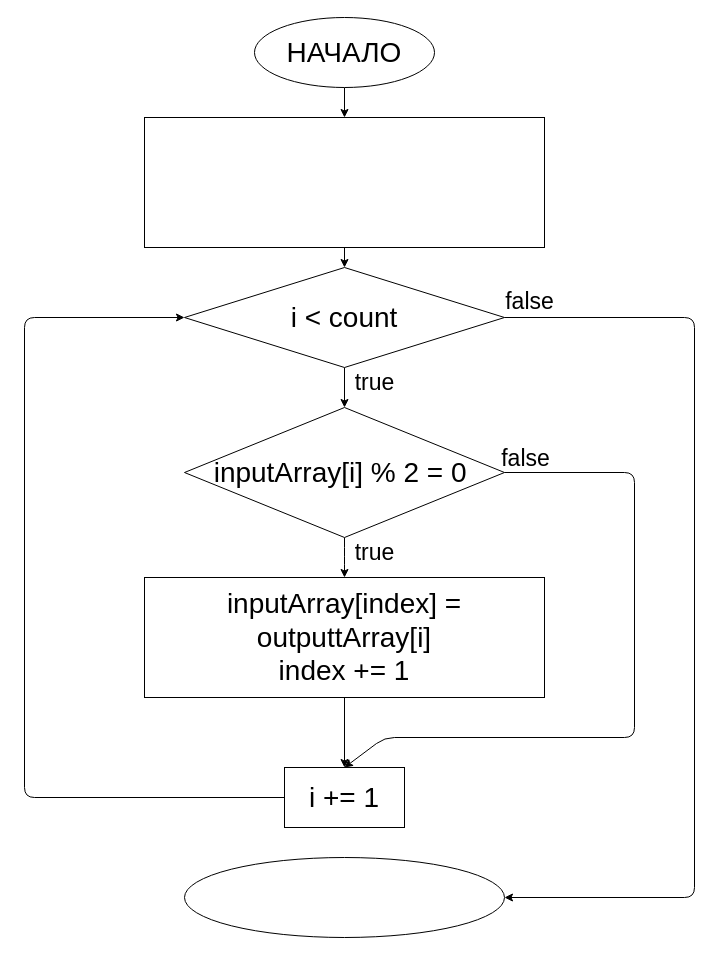
Some shapes in this 720 by 955 pixel diagram are drawn without their labels. Here are the shapes that lost their labels. From the top down, the box of each, then its label:
(144, 116, 544, 248): count inputArray [Integer, count] outputArray [Integer, count] index = 0
(184, 856, 504, 938): окончание
